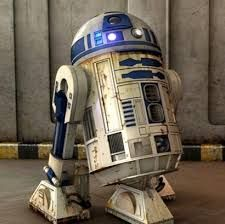r2d2: (29, 11, 181, 223)
